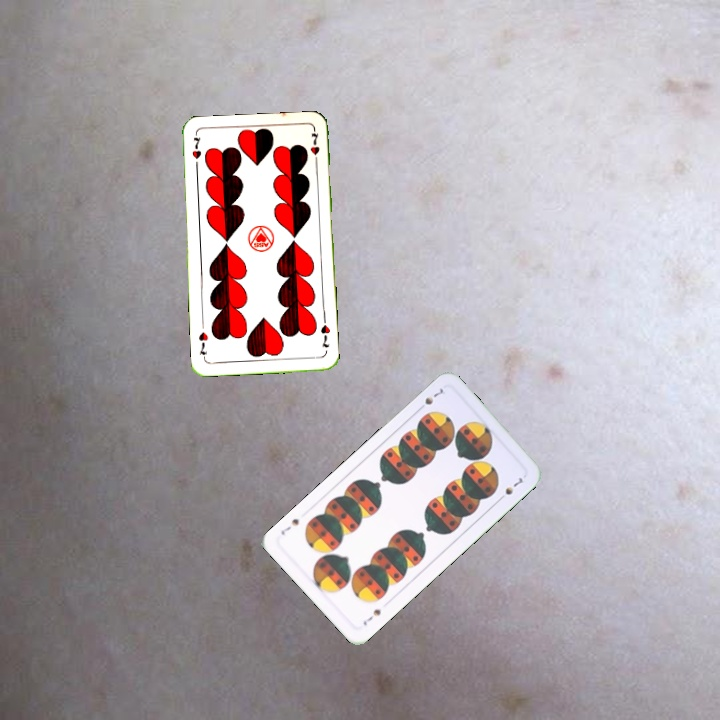H7: (188, 131, 204, 172), (317, 321, 333, 350)
S7: (413, 384, 446, 414), (359, 605, 383, 628)
